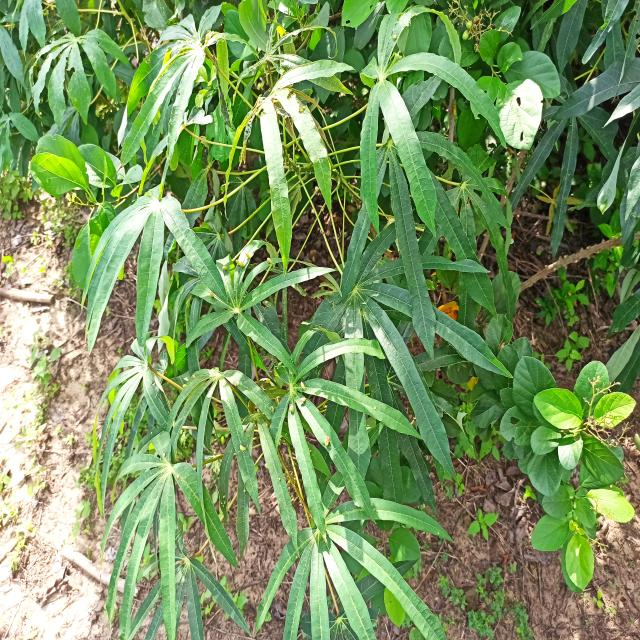Maleza: (517, 338, 633, 594), (475, 33, 550, 151), (33, 131, 132, 202)
Mosca: (285, 377, 310, 410), (350, 500, 372, 514), (294, 99, 308, 120), (323, 434, 332, 456), (234, 439, 248, 453), (388, 28, 401, 42)
